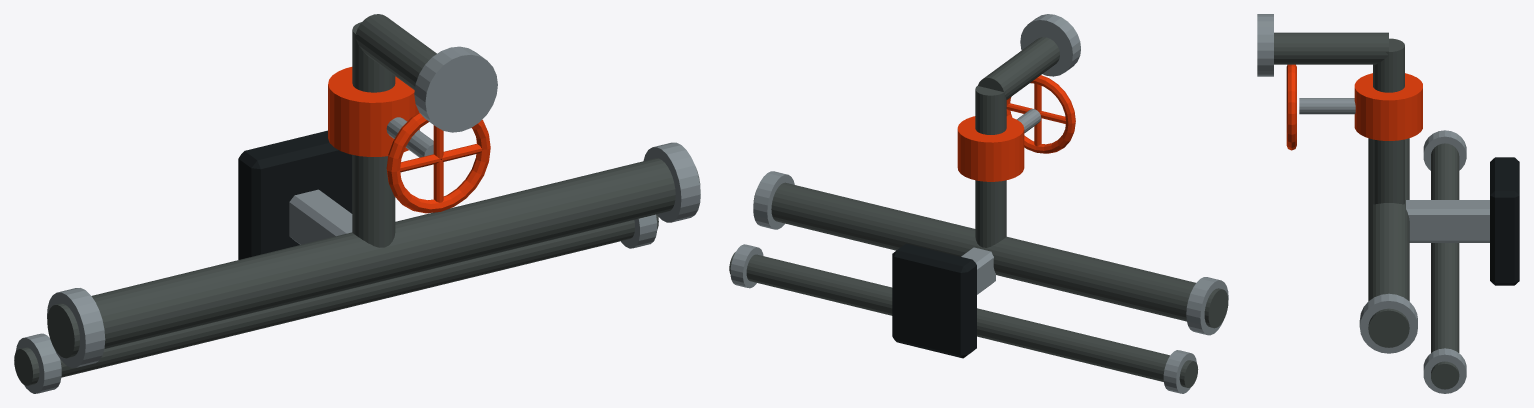
Rendered from pipe_manifold.obj.
3 views of the same model, side by side, from view 1: azimuth 30°, elevation 25°; view 2: azimuth 150°, elevation 25°; view 3: azimuth 270°, elevation 25° (orthographic). The views are drawn at different scales.
Size of the model in its own units: 1.45 by 0.782 by 0.7025.
